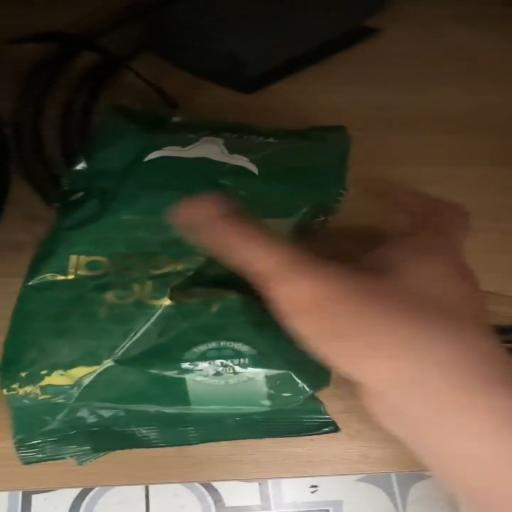cafe_xay: (1, 108, 349, 464)
